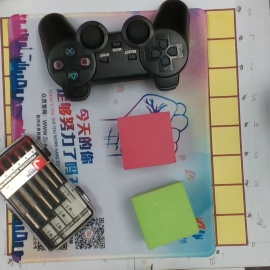remote: (37, 1, 191, 101)
